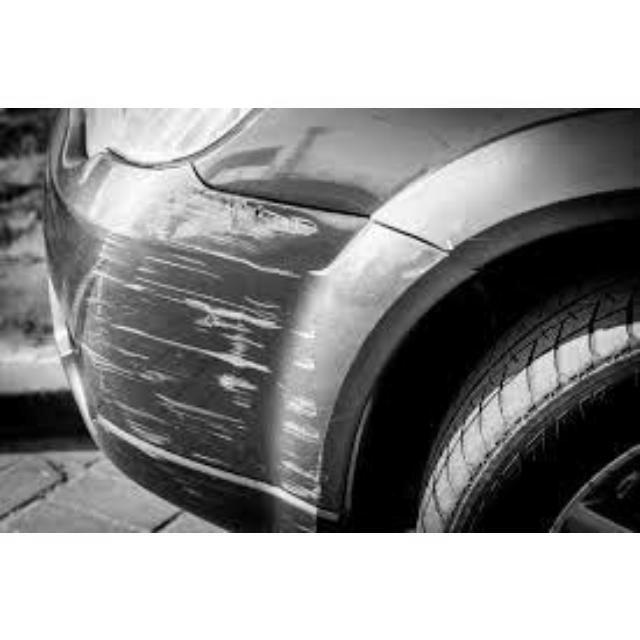front-bumper-dent: (31, 198, 442, 530)
